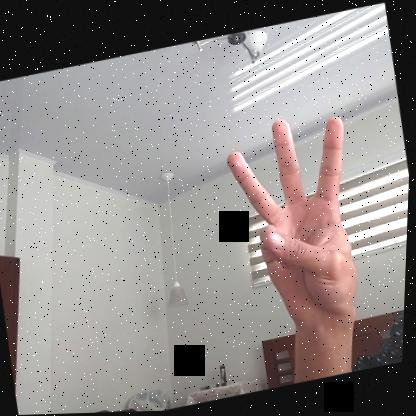W: (215, 107, 379, 339)
